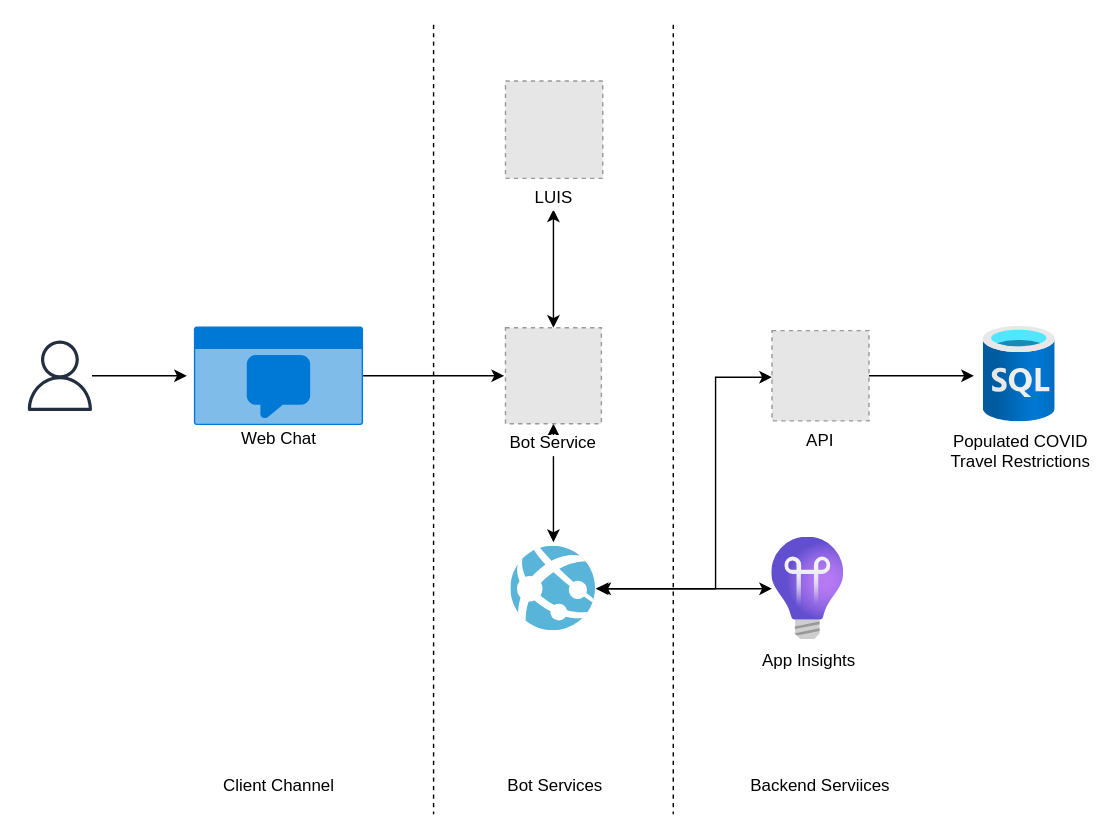
This 1112x840 diagram has some shape labels left out. Grey dashed boxes stand in for pictures. The shapes that lost their labels are listed below. From the top down, each one's box as (x1, y1, x2, y2) in pixels, then its label:
(193, 326, 362, 424): Chat
(510, 546, 595, 630): App Service
